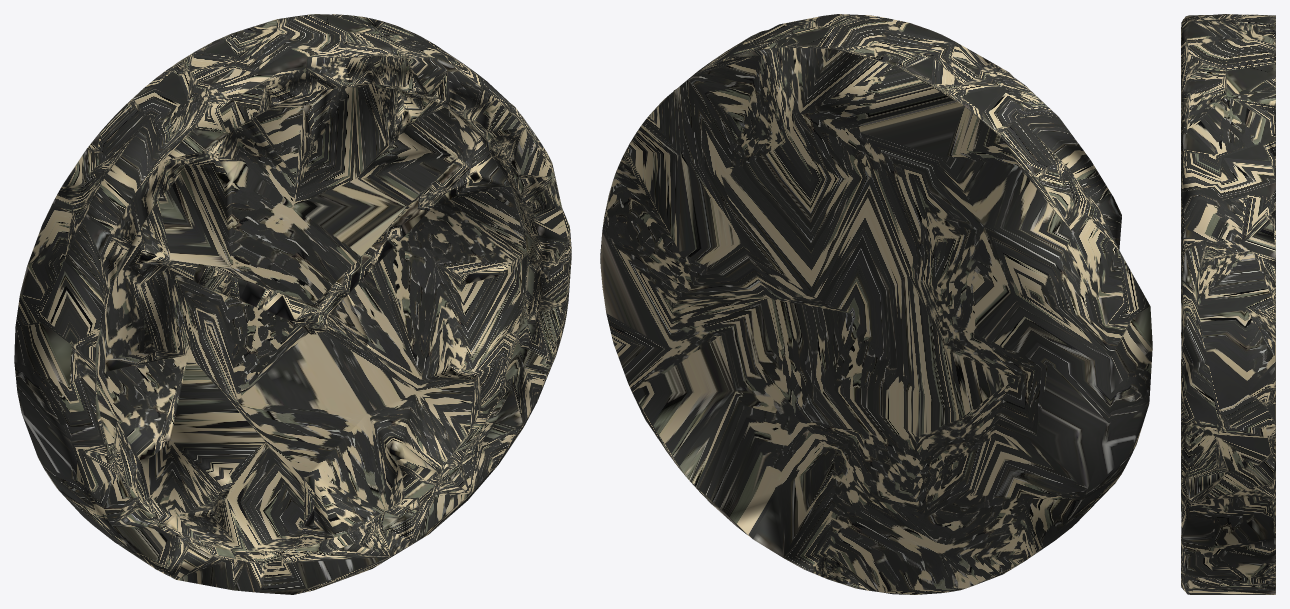
The model's file is wall_clock.9c58de32dc.glb.
3 views of the same model, side by side, from view 1: azimuth 30°, elevation 25°; view 2: azimuth 150°, elevation 25°; view 3: azimuth 270°, elevation 25° (orthographic).
Visible parts, largest first — view 1: wall_clock; view 2: wall_clock; view 3: wall_clock.
Part boxes in pixels (x1=…): wall_clock: x1=14, y1=14, x2=571, y2=594; wall_clock: x1=600, y1=14, x2=1152, y2=594; wall_clock: x1=1181, y1=14, x2=1275, y2=594.
Bounding box in the file's own units: 0.4194 × 0.4197 × 0.0683.
Materials: 1 (1 with a texture image).
